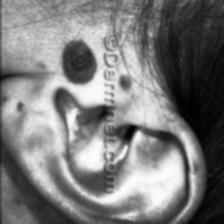Potentially Malignant Skin Tumors: (62, 39, 94, 87)
